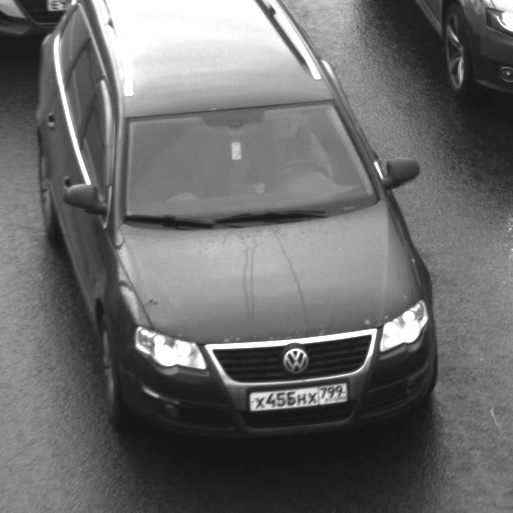plate: (238, 371, 355, 419)
